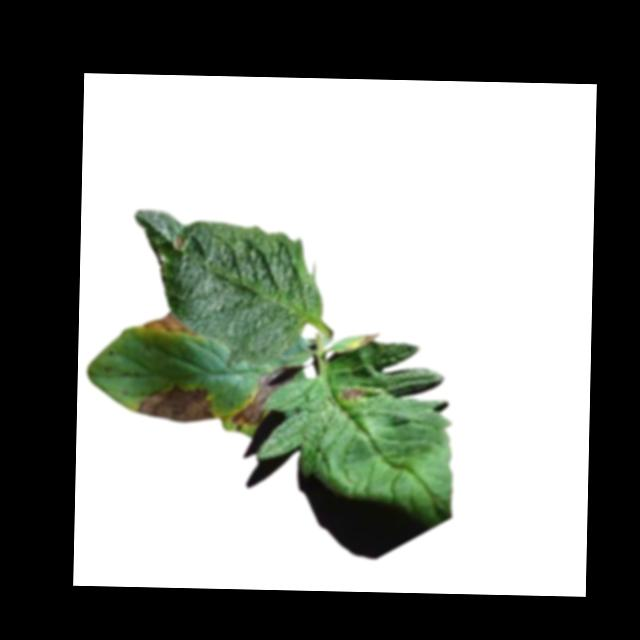Early_blight: (230, 364, 299, 433), (129, 381, 215, 424), (140, 309, 199, 336), (341, 384, 365, 402), (357, 330, 381, 347), (171, 235, 184, 250)
